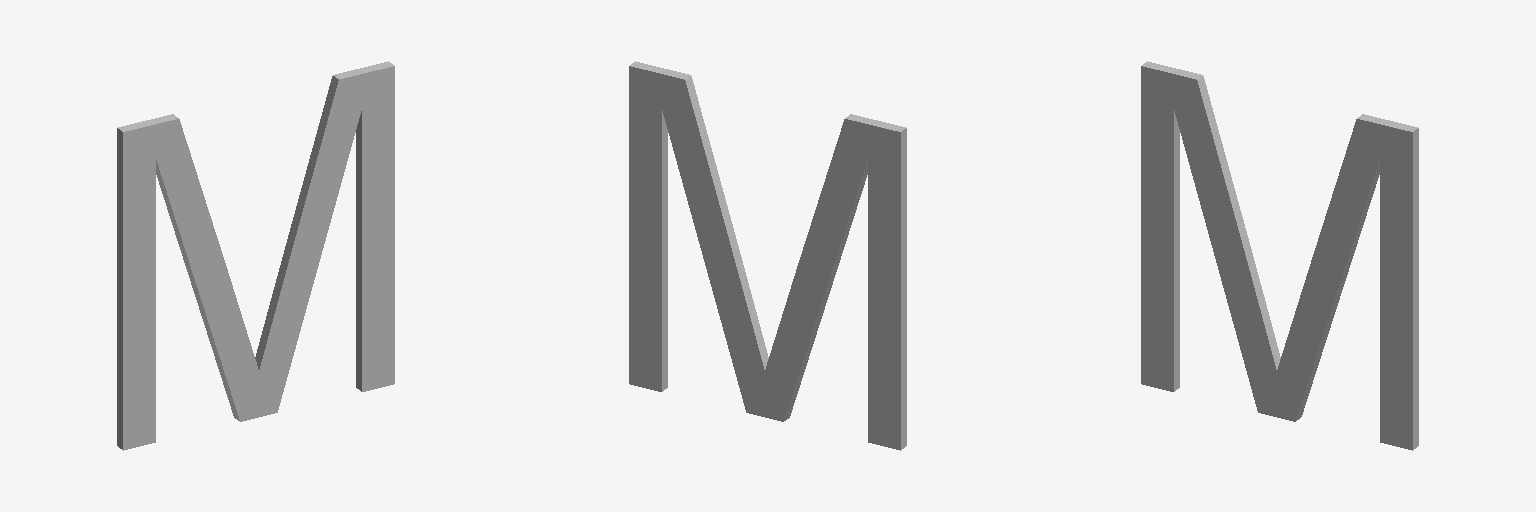
Rendered from M_UPPER.obj.
3 views of the same model, side by side, from view 1: azimuth 30°, elevation 25°; view 2: azimuth 150°, elevation 25°; view 3: azimuth 330°, elevation 25° (orthographic).
Parts seen in each view (by area): view 1: default; view 2: default; view 3: default.
Part boxes in pixels (bbox=[...]): default: bbox=[117, 61, 394, 450]; default: bbox=[629, 61, 906, 450]; default: bbox=[1141, 61, 1418, 450].
Bounding box in the file's own units: 2.5 × 2.8 × 0.1.